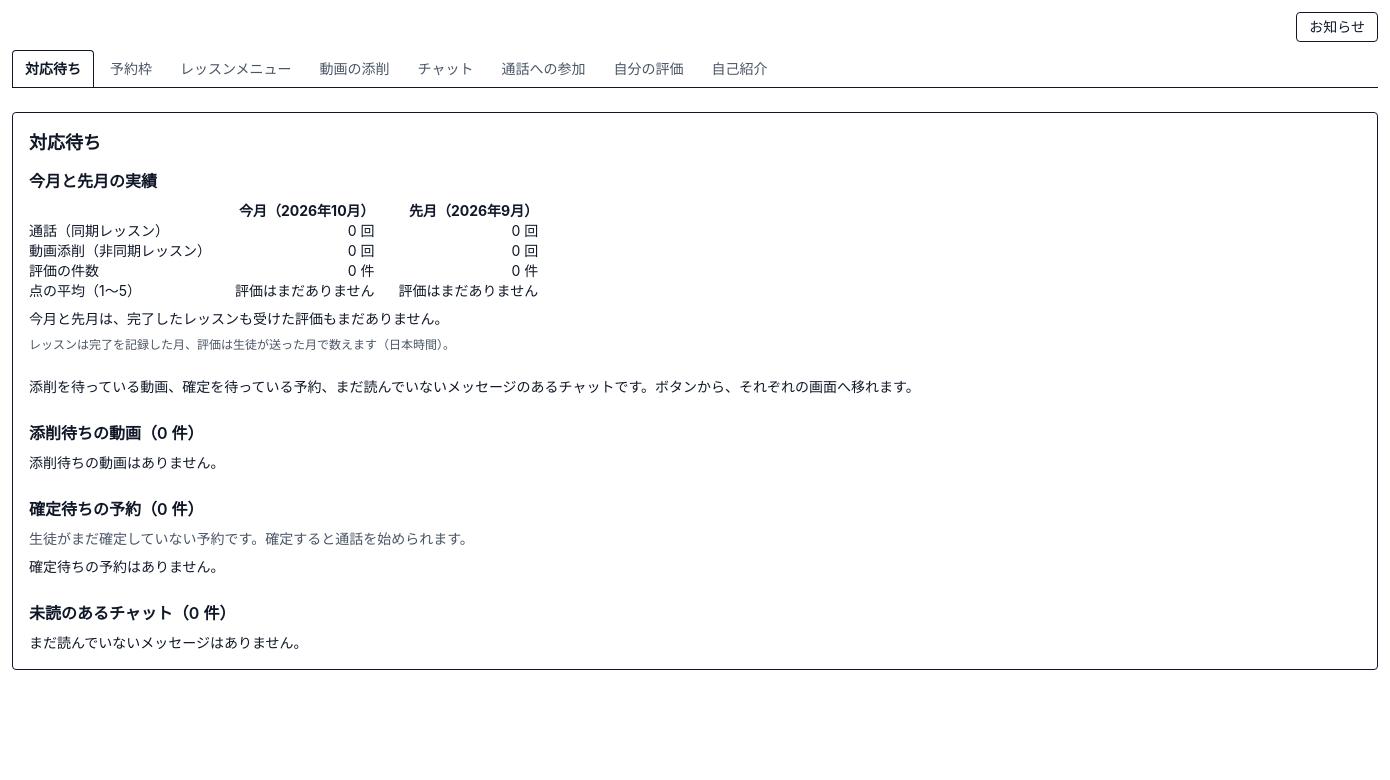
Scenario: コーチのお知らせ › 一覧が読めなければその文言だけを出す
Click the button "お知らせ" at {"x": 1337, "y": 27}, box [1296,12,1378,42]
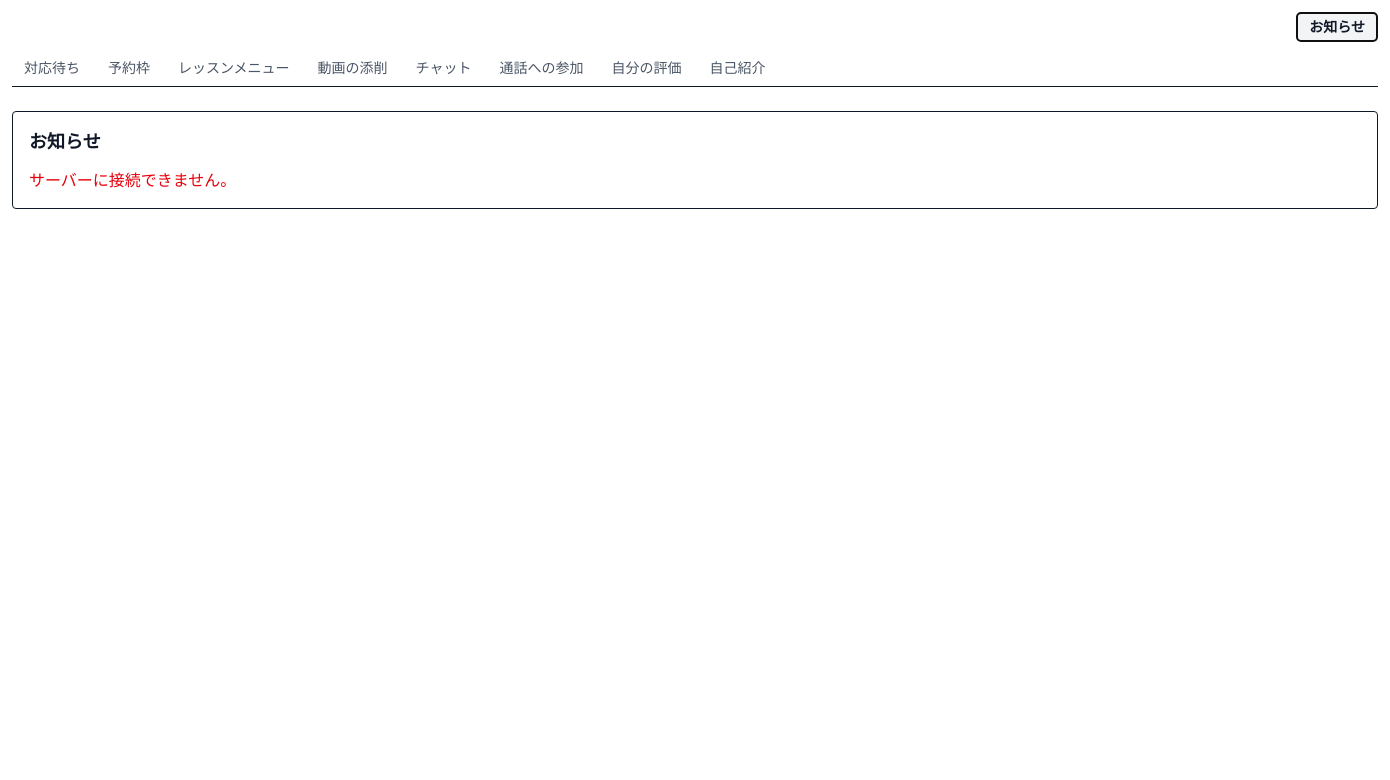
Expected: the message reads "サーバーに接続できません。", [29,170,236,190]
